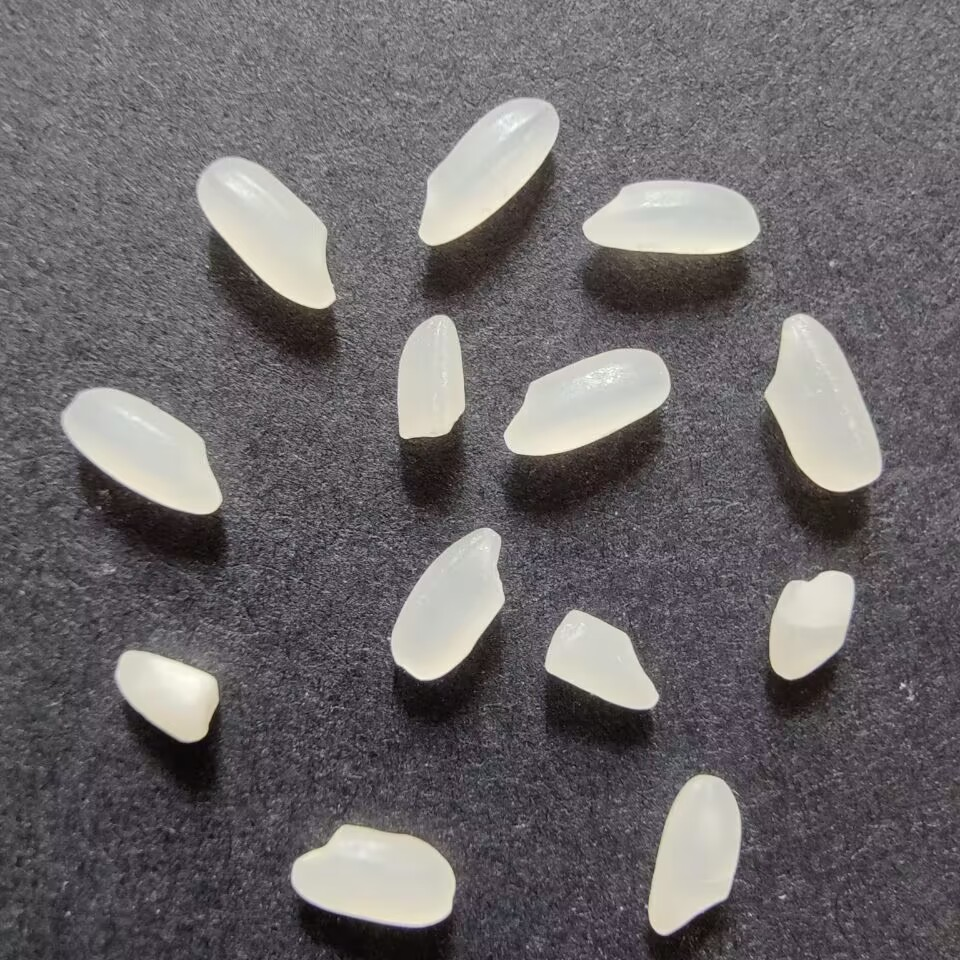broken: (539, 605, 665, 723), (108, 645, 221, 752), (760, 566, 861, 684), (390, 310, 468, 446)
rice: (190, 152, 343, 317), (412, 93, 563, 254), (760, 309, 886, 497), (58, 383, 229, 520), (382, 522, 511, 684), (497, 344, 672, 460), (283, 821, 464, 929), (643, 769, 751, 941), (573, 177, 766, 256)
